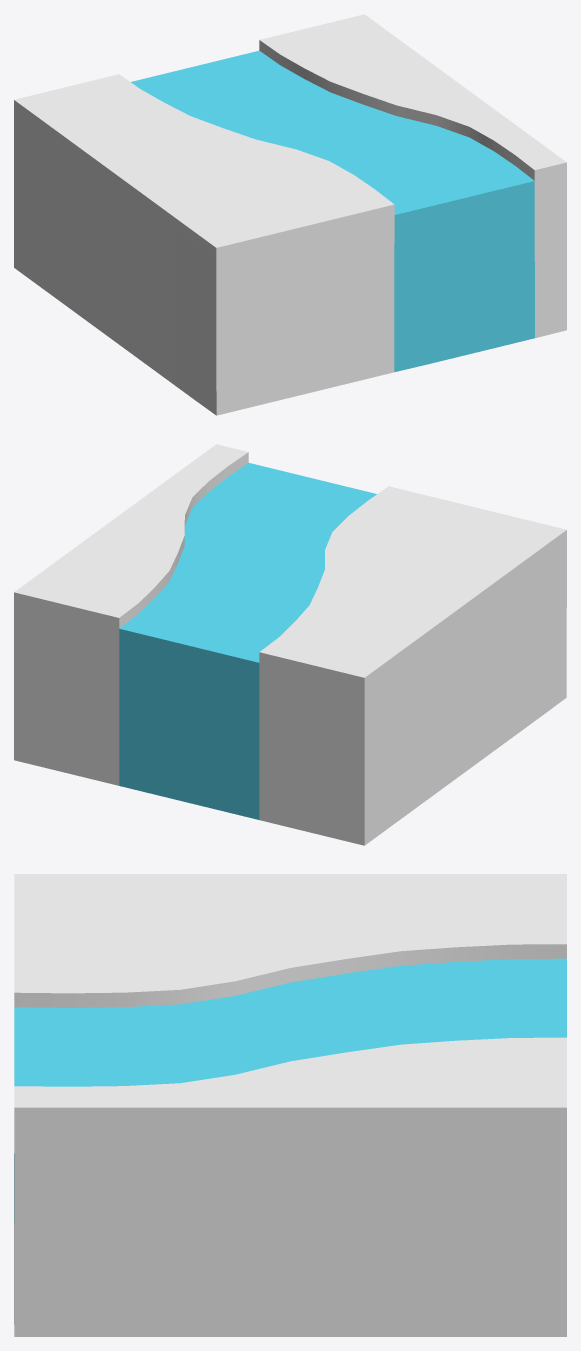
File: miti2.fbx
3 renders of one model, top to bottom at view 1: azimuth 30°, elevation 25°; view 2: azimuth 150°, elevation 25°; view 3: azimuth 270°, elevation 25°, orthographic. The views are drawn at different scales.
Visible parts, largest first — view 1: pCube1; view 2: pCube1; view 3: pCube1.
Boxes of the visible parts, x1,y1,x2,y2 form: pCube1: (14, 14, 566, 415); pCube1: (14, 444, 566, 845); pCube1: (14, 874, 566, 1336).
Size of the model in its own units: 24.03 by 11 by 24.05.
1 material, 1 textured.
